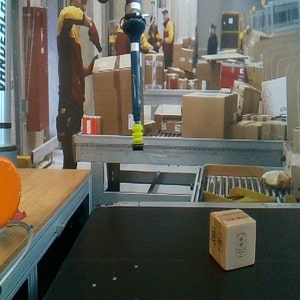box: (208, 208, 257, 272)
